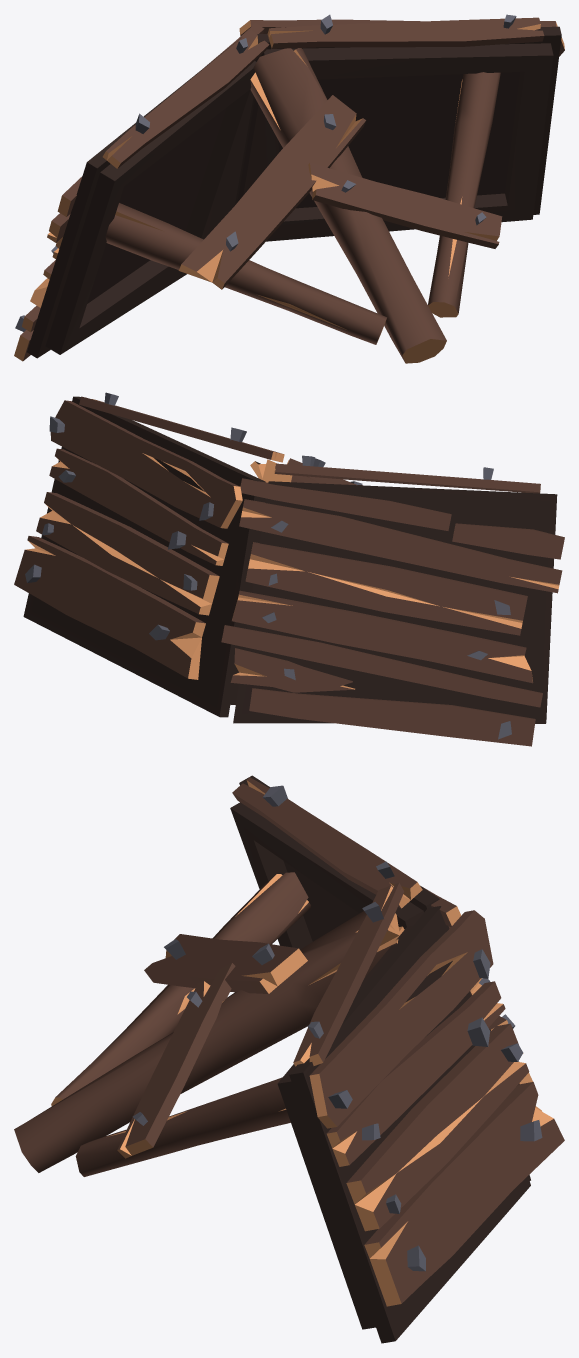
Rendered from SM_BoatRam_V1_001.fbx.
3 renders of one model, top to bottom at view 1: azimuth 30°, elevation 25°; view 2: azimuth 150°, elevation 25°; view 3: azimuth 270°, elevation 25°, orthographic. The views are drawn at different scales.
Parts seen in each view (by area): view 1: SM_BoatRam_V1; view 2: SM_BoatRam_V1; view 3: SM_BoatRam_V1.
Boxes of the visible parts, bbox=[...] form: SM_BoatRam_V1: bbox=[14, 14, 564, 363]; SM_BoatRam_V1: bbox=[14, 392, 564, 746]; SM_BoatRam_V1: bbox=[14, 775, 564, 1343].
Bounding box in the file's own units: 195 × 91.8 × 140.
